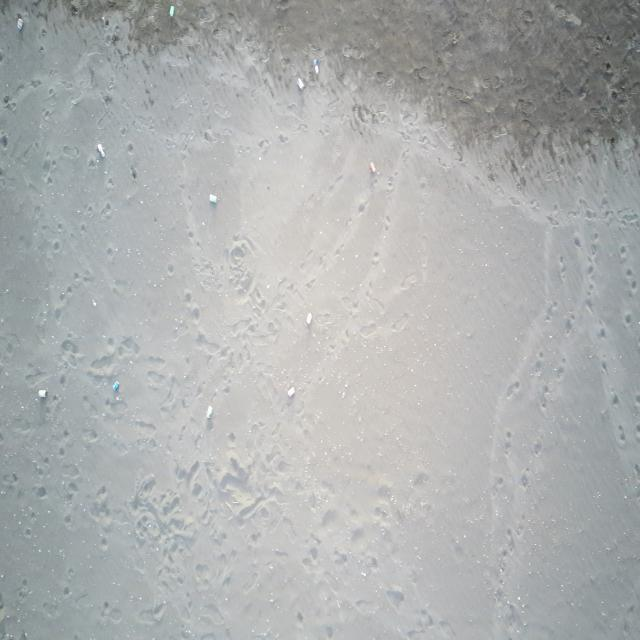Garbage: (312, 57, 319, 75), (96, 143, 104, 158), (16, 16, 23, 31), (111, 380, 119, 392), (296, 76, 303, 89), (306, 312, 312, 326), (287, 386, 295, 396), (209, 192, 216, 203), (37, 388, 47, 395), (207, 405, 212, 419), (369, 161, 375, 172), (168, 4, 173, 16), (91, 299, 96, 306)
